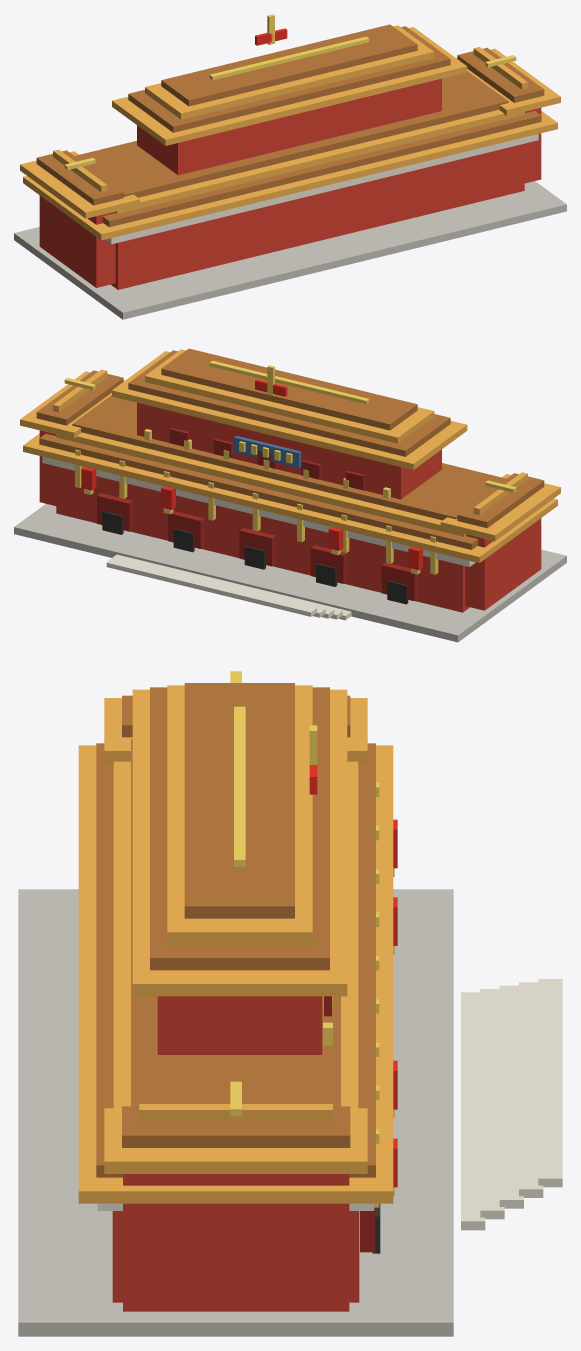
Rendered from voxel-beijing-tiananmen.gltf.
3 views of the same model, one above another, from view 1: azimuth 30°, elevation 25°; view 2: azimuth 150°, elevation 25°; view 3: azimuth 270°, elevation 25° (orthographic). The views are drawn at different scales.
Bounding box in the file's own units: 11.34 × 4.47 × 5.62.
